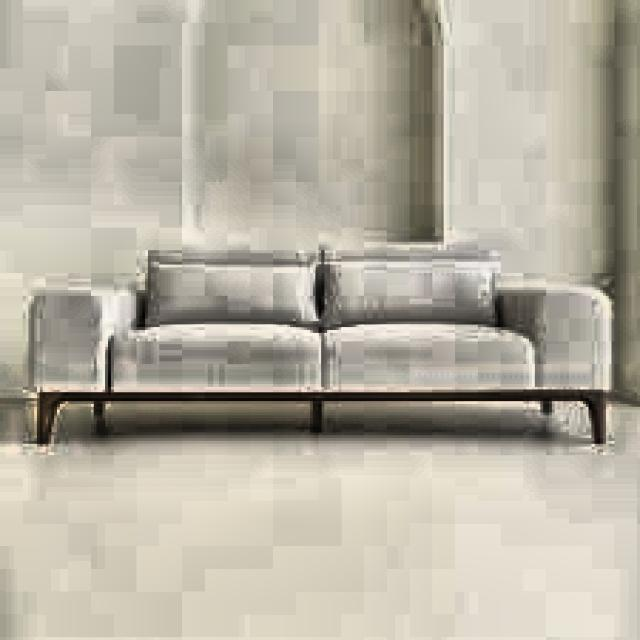sofa: (37, 242, 623, 449)
